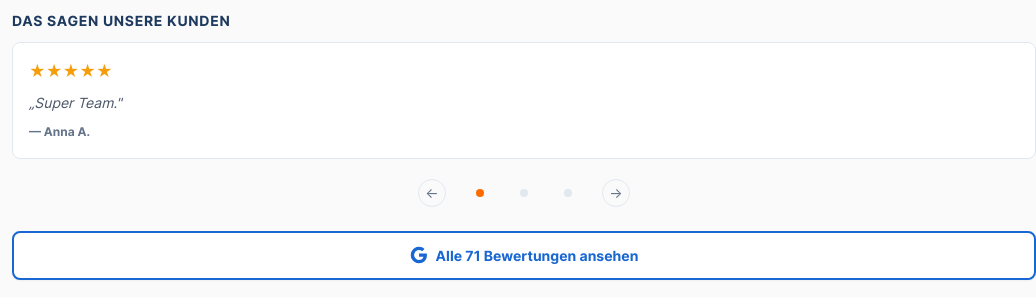
Test: ServiceReviews › cycles forward and wraps around at the end
The image size is (1036, 297).
Step 1. Click the button named "Nächste Bewertung" → (616, 193), box [602, 179, 630, 207]
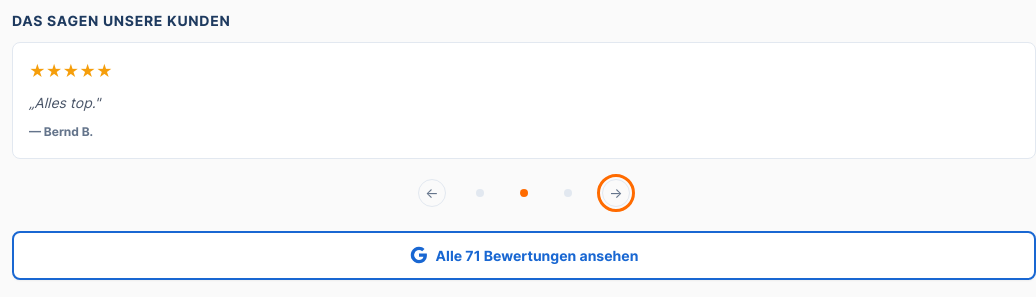
Now the text "„Alles top.\"" is shown, box [29, 94, 100, 110]
Step 2. Click the button named "Nächste Bewertung" → (616, 193), box [602, 179, 630, 207]
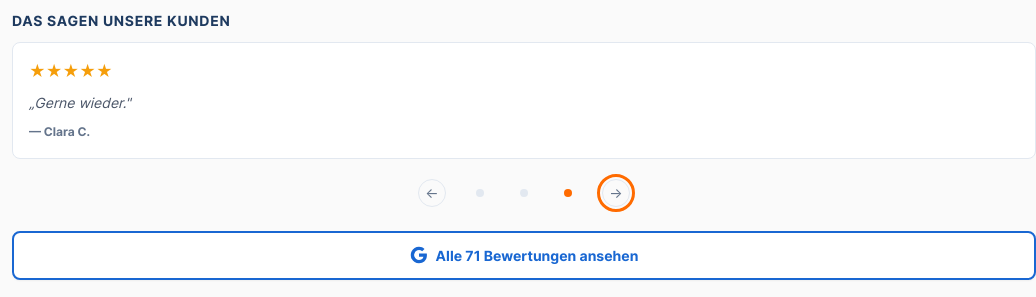
Step 3. Click the button named "Nächste Bewertung" → (616, 193), box [602, 179, 630, 207]
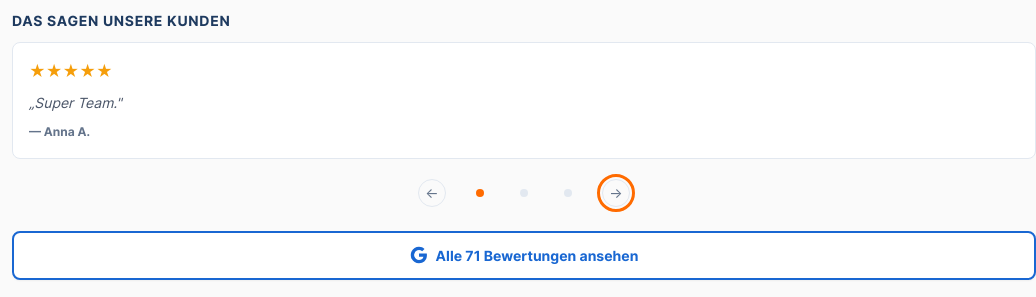
Now the text "„Super Team.\"" is shown, box [29, 94, 122, 110]
